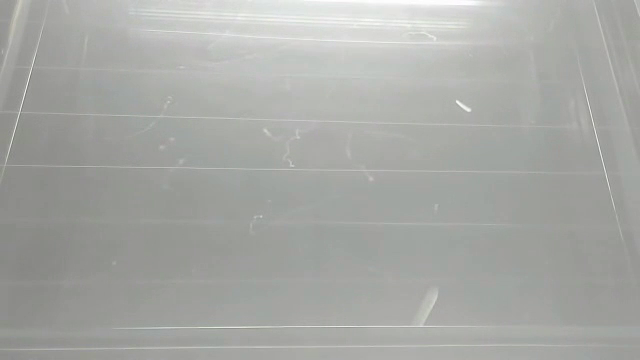alpha: (412, 285, 445, 328), (452, 96, 475, 115)
